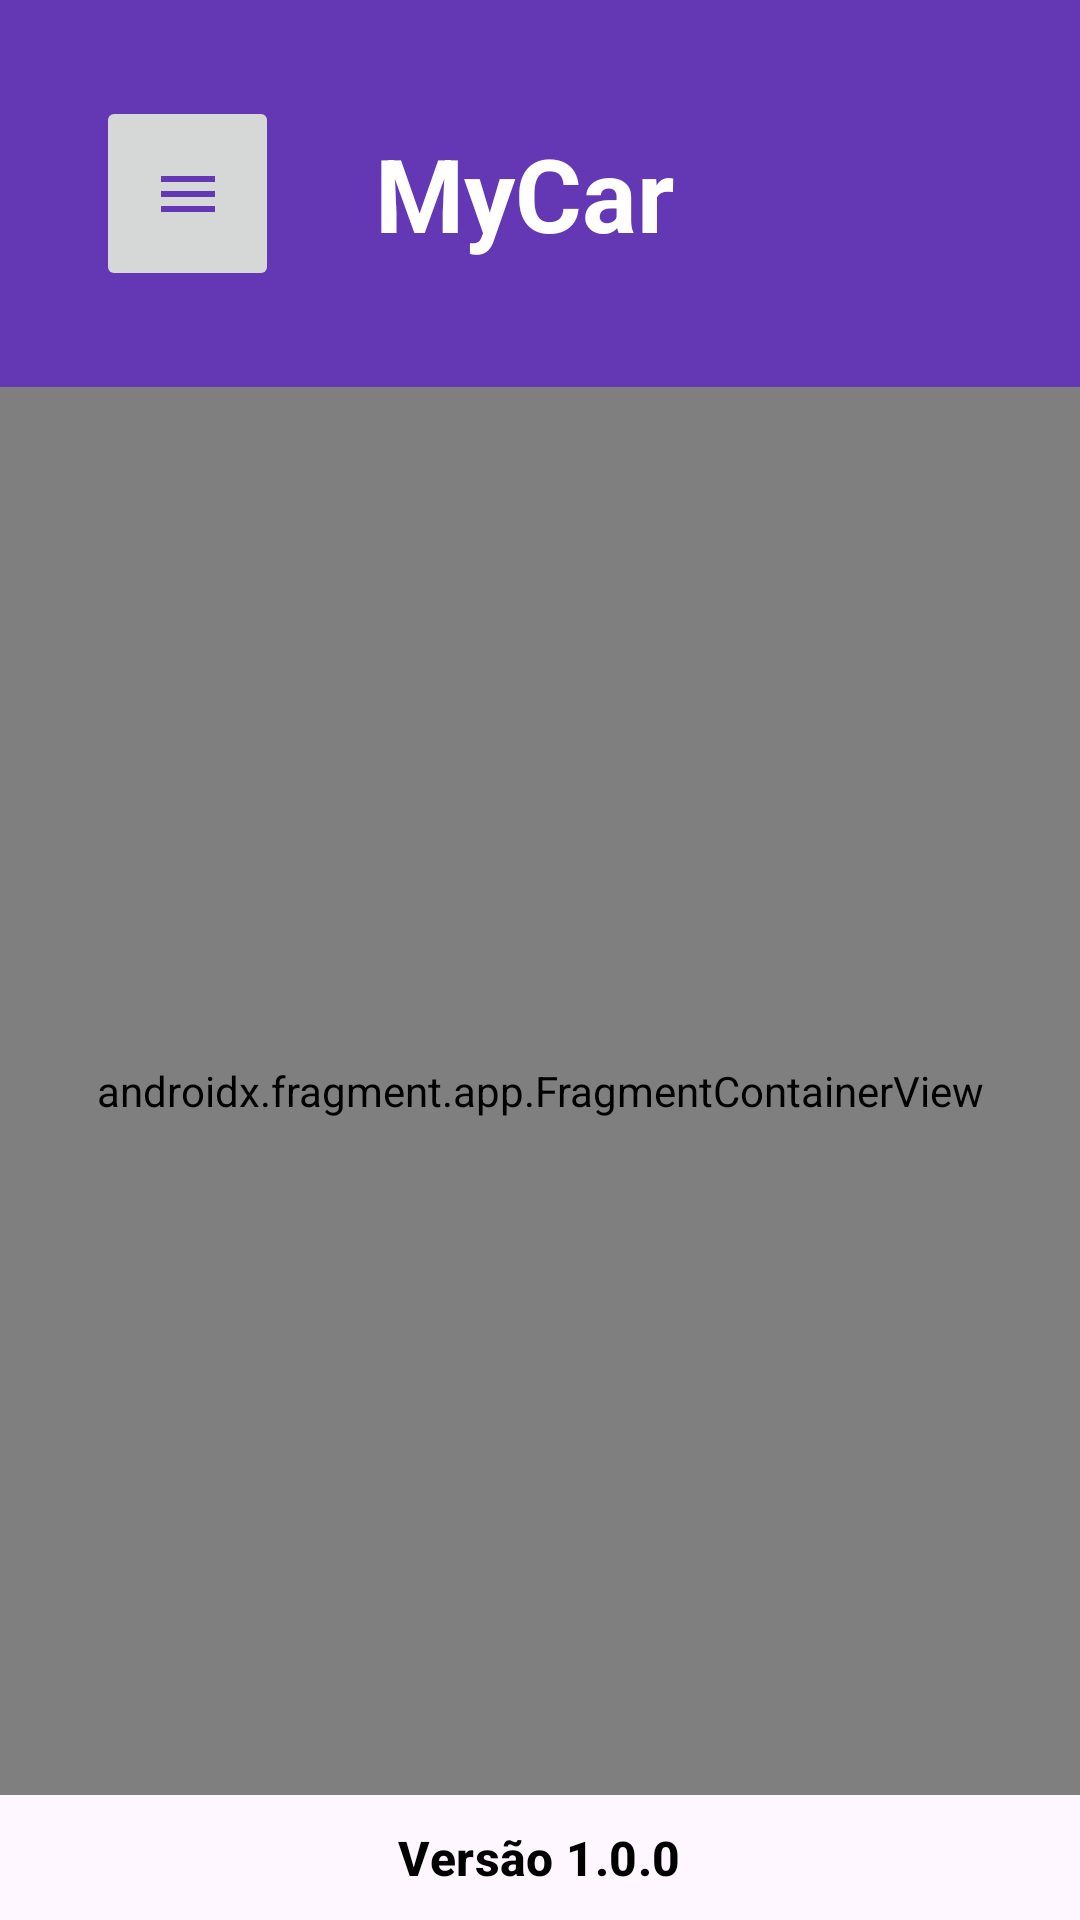

Icon click points for this 1080 × 1920 phone screenshot, format (x,y):
Abrir menu: (187,193)
